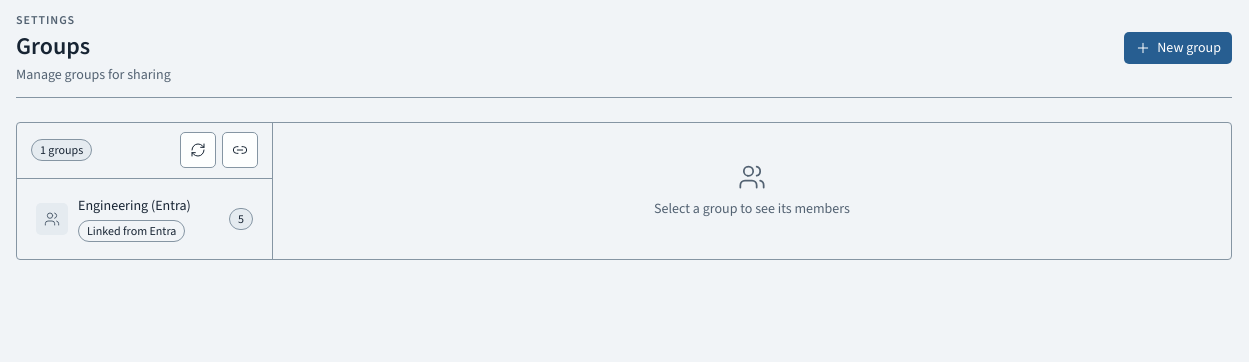
Test case: GroupsPage › Entra-linked groups (WBS 4.20) › hides the add-member bar + remove controls for an Entra group and shows the managed hint
Click the button "Engineering (Entra) Linked from Entra 5". click: {"x": 144, "y": 219}
box: [25,187,264,251]
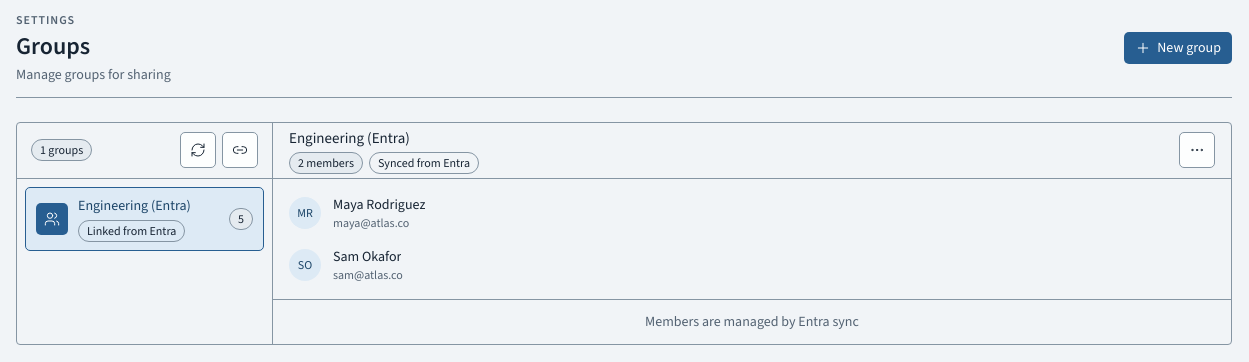
expect the text with test id "entra-managed-hint" reads "Members are managed by Entra sync": met, box [645,312,859,331]
expect the text with test id "entra-detail-badge" reads "Synced from Entra": met, box [378,154,470,170]
